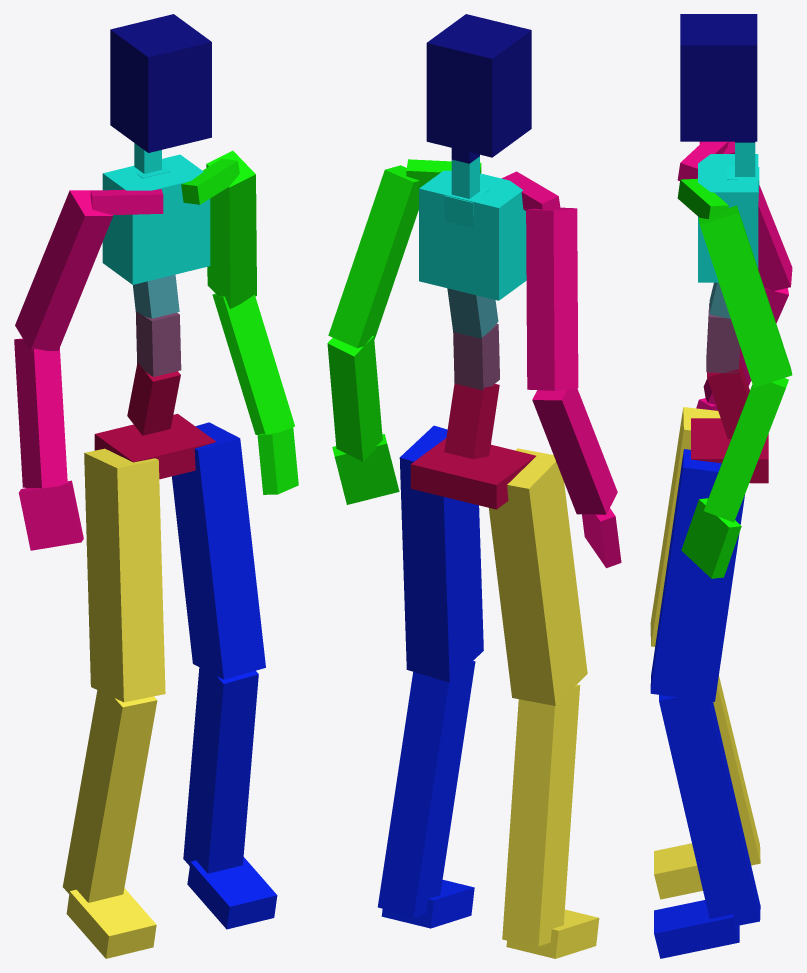
The model's file is Base Human.FBX.
3 views of the same model, side by side, from view 1: azimuth 30°, elevation 25°; view 2: azimuth 150°, elevation 25°; view 3: azimuth 270°, elevation 25° (orthographic). The views are drawn at different scales.
Visible parts, largest first — view 1: Base HumanRThigh, Base HumanLThigh, Base HumanRCalf, Base HumanHead, Base HumanLCalf, Base HumanRibcage, Base HumanRUpperarm, Base HumanRForearm, Base HumanLUpperarm, Base HumanLForearm, Base HumanRFoot, Base HumanLFoot (+9 smaller); view 2: Base HumanRThigh, Base HumanLThigh, Base HumanRCalf, Base HumanLCalf, Base HumanHead, Base HumanRibcage, Base HumanRUpperarm, Base HumanLUpperarm, Base HumanRForearm, Base HumanLForearm, Base HumanPelvis, Base HumanSpine00 (+10 smaller); view 3: Base HumanLCalf, Base HumanLThigh, Base HumanHead, Base HumanLUpperarm, Base HumanLForearm, Base HumanRibcage, Base HumanLFoot, Base HumanLPalm, Base HumanRCalf, Base HumanRThigh, Base HumanRUpperarm, Base HumanRFoot (+8 smaller).
Boxes of the visible parts, x1,y1,x2,y2 form: Base HumanRThigh: [84, 448, 165, 702]; Base HumanLThigh: [172, 422, 265, 679]; Base HumanRCalf: [62, 690, 157, 902]; Base HumanHead: [110, 14, 211, 152]; Base HumanLCalf: [183, 667, 258, 873]; Base HumanRibcage: [102, 154, 210, 284]; Base HumanRUpperarm: [15, 190, 112, 350]; Base HumanRForearm: [14, 338, 67, 488]; Base HumanLUpperarm: [206, 150, 256, 308]; Base HumanLForearm: [212, 293, 294, 434]; Base HumanRFoot: [66, 888, 156, 958]; Base HumanLFoot: [187, 857, 277, 929]; Base HumanRThigh: [489, 448, 587, 705]; Base HumanLThigh: [399, 425, 483, 682]; Base HumanRCalf: [502, 684, 580, 946]; Base HumanLCalf: [377, 661, 475, 917]; Base HumanHead: [426, 14, 531, 157]; Base HumanRibcage: [419, 170, 526, 300]; Base HumanRUpperarm: [526, 207, 578, 390]; Base HumanLUpperarm: [328, 165, 419, 348]; Base HumanRForearm: [532, 388, 617, 514]; Base HumanLForearm: [327, 335, 382, 461]; Base HumanPelvis: [410, 438, 535, 509]; Base HumanSpine00: [444, 383, 499, 459]; Base HumanLCalf: [659, 695, 760, 925]; Base HumanLThigh: [650, 449, 744, 701]; Base HumanHead: [680, 14, 757, 141]; Base HumanLUpperarm: [698, 205, 792, 387]; Base HumanLForearm: [704, 378, 788, 522]; Base HumanRibcage: [698, 154, 758, 282]; Base HumanLFoot: [654, 900, 739, 958]; Base HumanLPalm: [681, 498, 741, 578]; Base HumanRCalf: [713, 676, 760, 865]; Base HumanRThigh: [650, 407, 720, 646]; Base HumanRUpperarm: [699, 141, 792, 291]; Base HumanRFoot: [654, 843, 702, 899].
Size of the model in its own units: 13.08 by 40.14 by 5.82.
